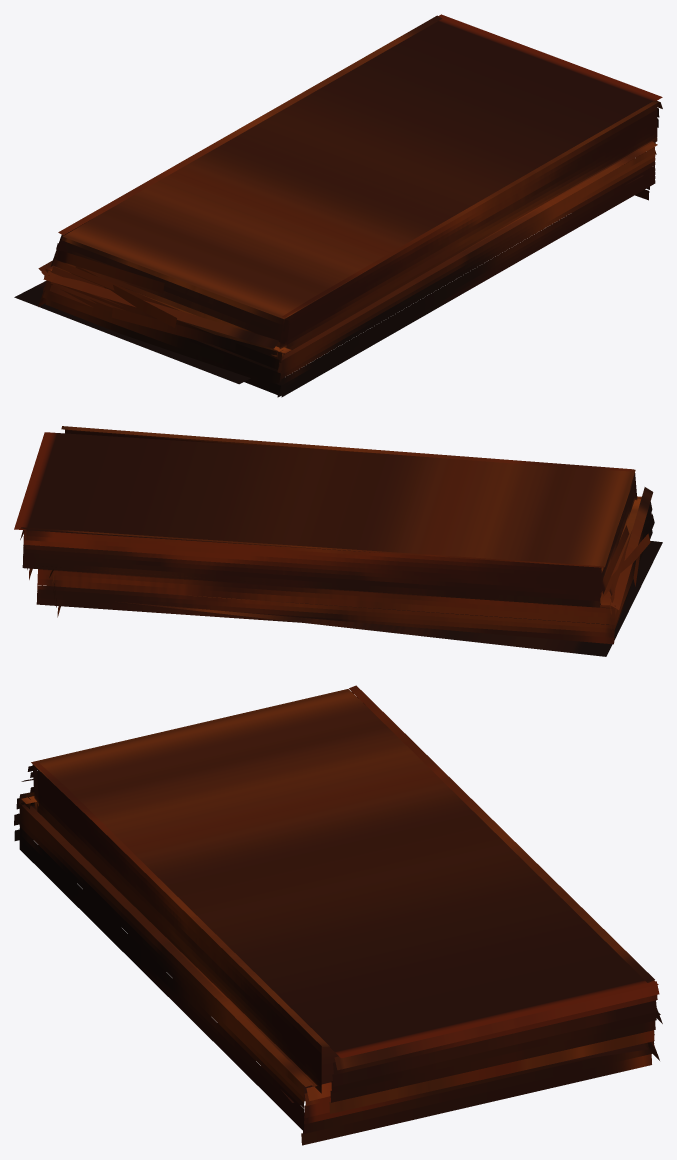
File: board.fbx
The picture shows the model from 3 angles, top to bottom: view 1: azimuth 30°, elevation 25°; view 2: azimuth 150°, elevation 25°; view 3: azimuth 270°, elevation 25°; orthographic projection. The views are drawn at different scales.
Visible parts, largest first — view 1: Paint; view 2: Paint; view 3: Paint.
Boxes of the visible parts, x1,y1,x2,y2 form: Paint: (14, 14, 662, 397); Paint: (14, 426, 662, 656); Paint: (14, 685, 662, 1145).
Size of the model in its own units: 0.7052 by 0.1065 by 0.51.
